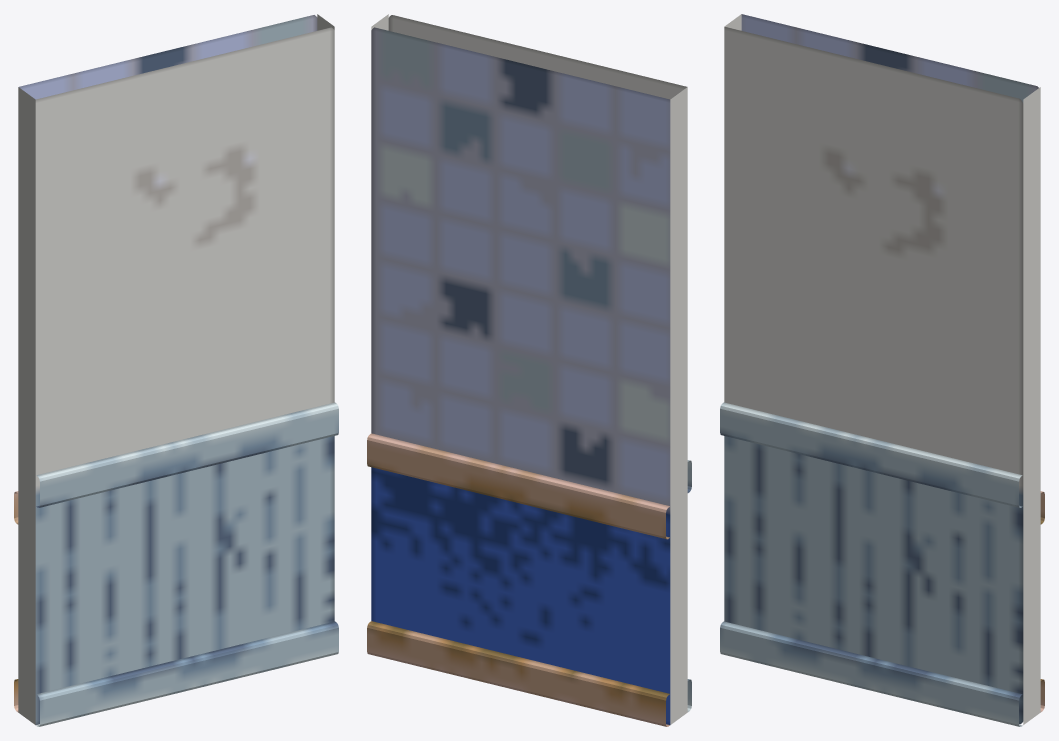
File: Wall_TipoA_3.fbx
3 views of the same model, side by side, from view 1: azimuth 30°, elevation 25°; view 2: azimuth 150°, elevation 25°; view 3: azimuth 330°, elevation 25° (orthographic).
Visible parts, largest first — view 1: Cube.091, Cube.095, Cube.093; view 2: Cube.091, Cube.092, Cube.094; view 3: Cube.091, Cube.095, Cube.093.
Part boxes in pixels (x1,y1,x2,y2): Cube.091: [18, 14, 334, 725]; Cube.095: [36, 621, 338, 726]; Cube.093: [36, 402, 338, 507]; Cube.091: [371, 14, 687, 725]; Cube.092: [367, 433, 669, 539]; Cube.094: [367, 621, 669, 726]; Cube.091: [724, 14, 1040, 724]; Cube.095: [720, 621, 1022, 726]; Cube.093: [720, 402, 1022, 507].
Bounding box in the file's own units: 200 × 400 × 29.88.
